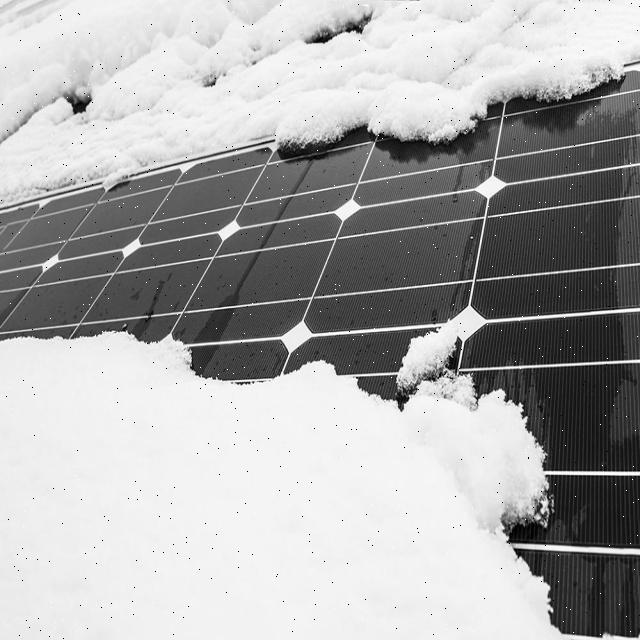snow covered: (12, 303, 634, 633)
